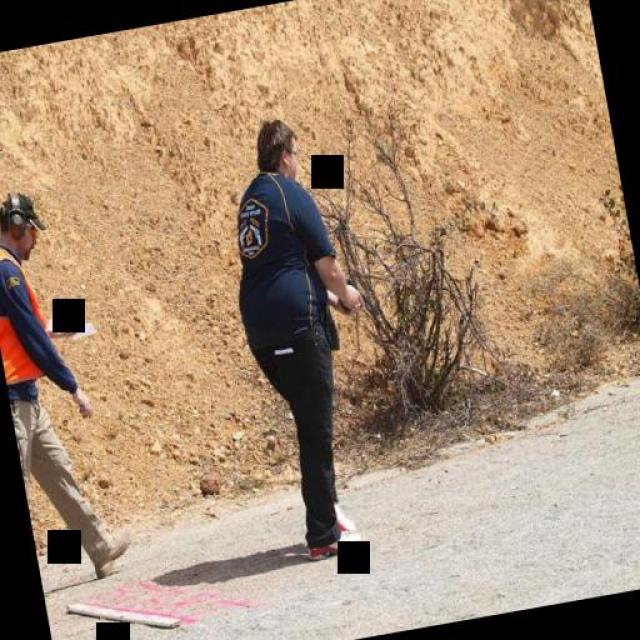gun: (334, 266, 378, 322)
